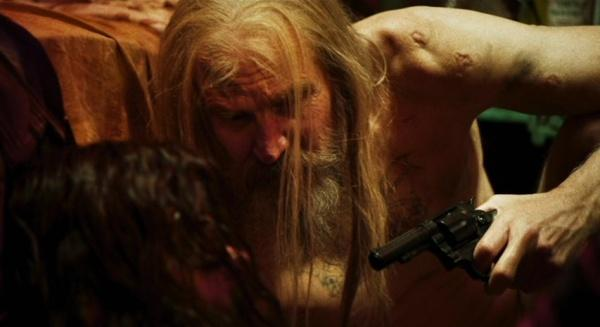Gun: (367, 197, 498, 280)
